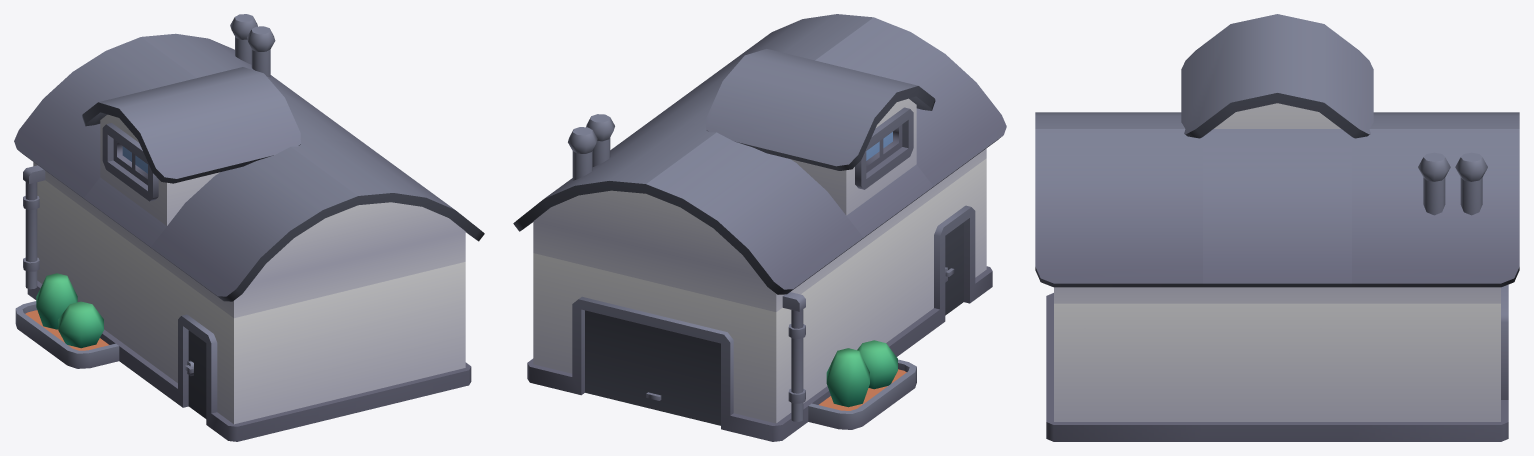
Rendered from warehouse_4.fbx.
3 renders of one model, left to right at view 1: azimuth 30°, elevation 25°; view 2: azimuth 150°, elevation 25°; view 3: azimuth 270°, elevation 25°, orthographic. The views are drawn at different scales.
Parts seen in each view (by area): view 1: warehouse_4; view 2: warehouse_4; view 3: warehouse_4.
Boxes of the visible parts, x1,y1,x2,y2 form: warehouse_4: [14, 14, 484, 441]; warehouse_4: [513, 14, 1006, 441]; warehouse_4: [1035, 14, 1519, 441].
Bounding box in the file's own units: 1.03 × 0.8611 × 1.3.
2 materials, 2 textured.
